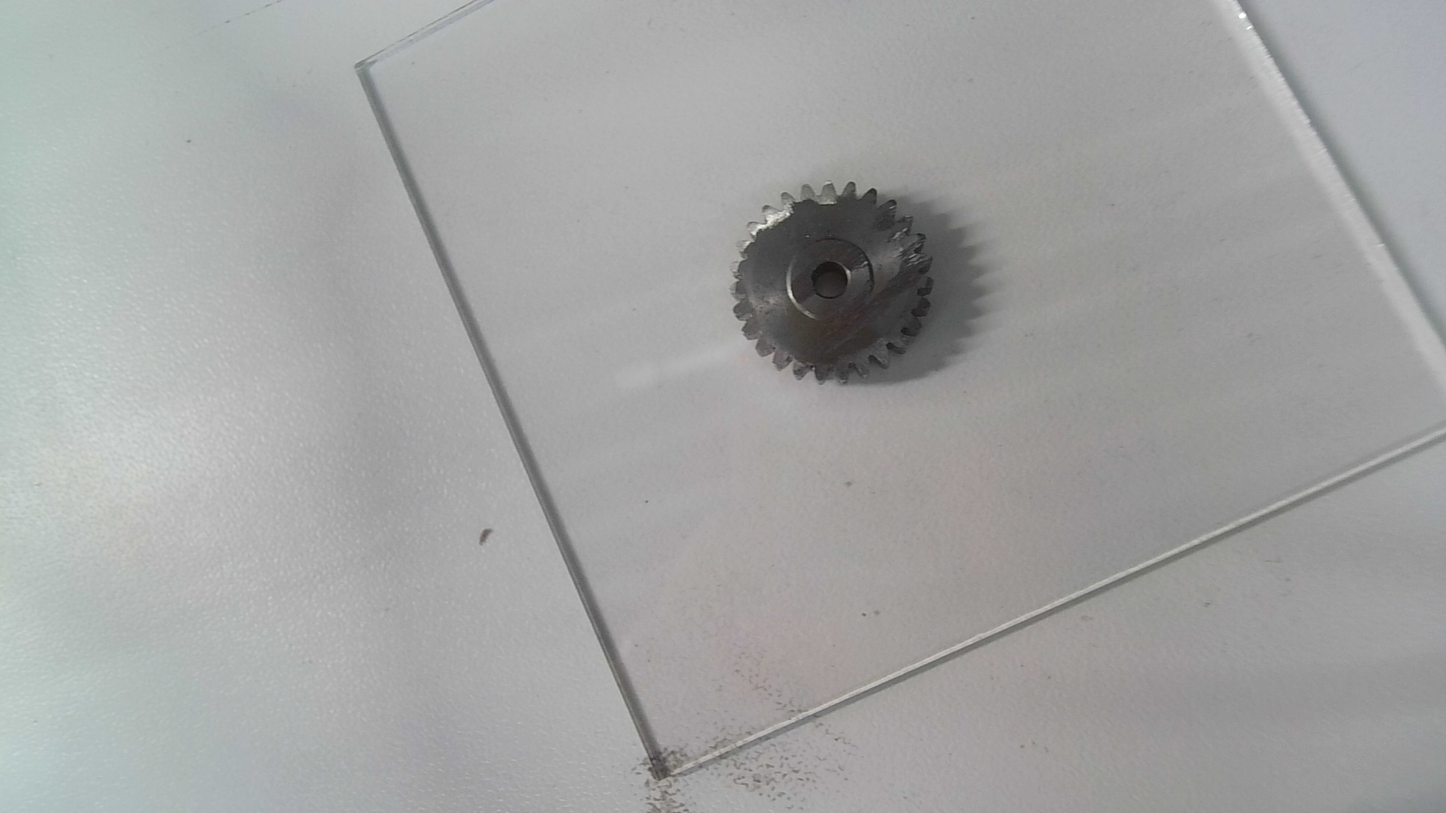gear: (726, 178, 933, 390)
